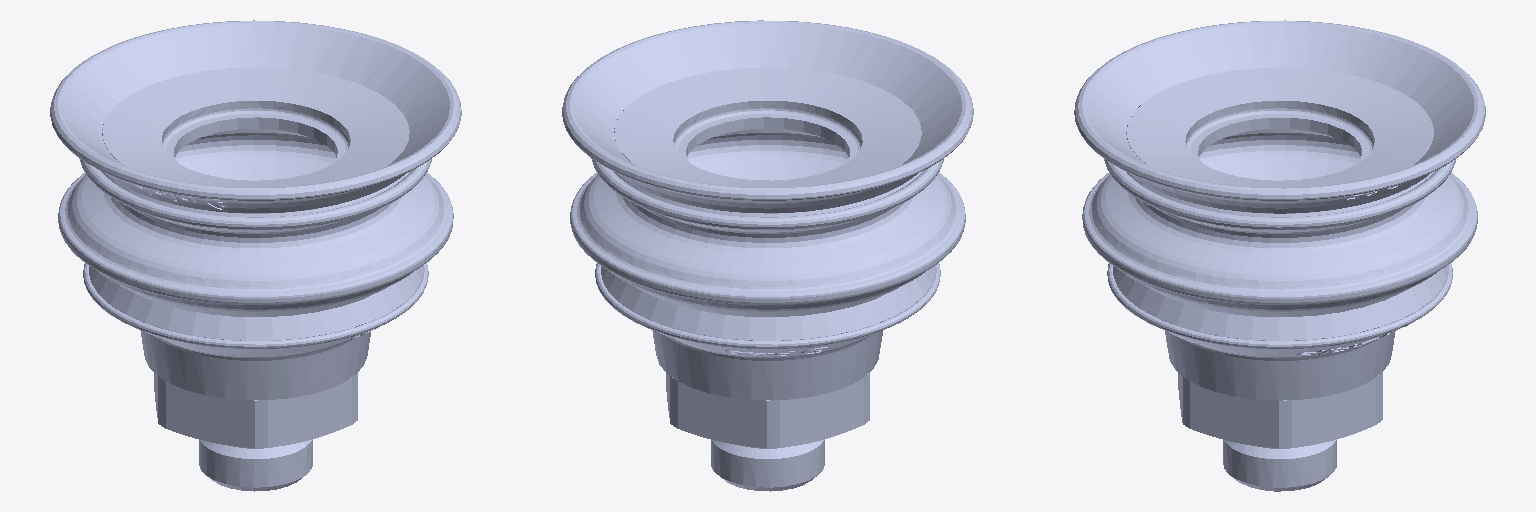
URDF robot description (robotiq_description):
<?xml version="1.0" encoding="utf-8"?>
<!-- This URDF was automatically created by SolidWorks to URDF Exporter! Originally created by Stephen Brawner (brawner@gmail.com) 
     Commit Version: 1.6.0-4-g7f85cfe  Build Version: 1.6.7995.38578
     For more information, please see http://wiki.ros.org/sw_urdf_exporter -->
<robot
  name="robotiq_description">
  <link
    name="robotiq_base_link">
    <inertial>
      <origin
        xyz="0.00028483 0.00013946 0.056894"
        rpy="0 0 0" />
      <mass
        value="0.42106" />
      <inertia
        ixx="0.00042489"
        ixy="-3.2635E-07"
        ixz="-2.1895E-07"
        iyy="0.00052455"
        iyz="2.1181E-07"
        izz="0.00028674" />
    </inertial>
    <visual>
      <origin
        xyz="0 0 0"
        rpy="0 0 0" />
      <geometry>
        <mesh
          filename="package://robotiq_description/meshes/robotiq_base_link.STL" />
      </geometry>
      <material
        name="">
        <color
          rgba="0.79216 0.81961 0.93333 1" />
      </material>
    </visual>
    <collision>
      <origin
        xyz="0 0 0"
        rpy="0 0 0" />
      <geometry>
        <mesh
          filename="package://robotiq_description/meshes/robotiq_base_link.STL" />
      </geometry>
    </collision>
  </link>
  <link
    name="center_tool">
    <inertial>
      <origin
        xyz="6.8225E-08 5.9771E-07 -0.014684"
        rpy="0 0 0" />
      <mass
        value="0.007783" />
      <inertia
        ixx="5.1318E-07"
        ixy="-6.6252E-11"
        ixz="1.9263E-13"
        iyy="5.1324E-07"
        iyz="2.4819E-12"
        izz="8.6838E-07" />
    </inertial>
    <visual>
      <origin
        xyz="0 0 0"
        rpy="0 0 0" />
      <geometry>
        <mesh
          filename="package://robotiq_description/meshes/center_tool.STL" />
      </geometry>
      <material
        name="">
        <color
          rgba="0.79216 0.81961 0.93333 1" />
      </material>
    </visual>
    <collision>
      <origin
        xyz="0 0 0"
        rpy="0 0 0" />
      <geometry>
        <mesh
          filename="package://robotiq_description/meshes/center_tool.STL" />
      </geometry>
    </collision>
  </link>
  <joint
    name="center_tool"
    type="fixed">
    <origin
      xyz="0 0 0.16722"
      rpy="0 0 0" />
    <parent
      link="robotiq_base_link" />
    <child
      link="center_tool" />
    <axis
      xyz="0 0 1" />
  </joint>
</robot>

--- Facts derived from the render (not from the file) ---
Views: 3 orthographic renders of the robot side by side, from view 1: azimuth 30°, elevation 25°; view 2: azimuth 150°, elevation 25°; view 3: azimuth 270°, elevation 25°.
Model robotiq_description with 2 links and 1 joints (1 fixed), rooted at robotiq_base_link, posed every joint at zero.
Links seen in each view (by area): view 1: center_tool; view 2: center_tool; view 3: center_tool.
Link boxes in pixels (left/top/right/bottom): center_tool: left=50, top=20, right=461, bottom=491; center_tool: left=562, top=20, right=973, bottom=491; center_tool: left=1074, top=20, right=1485, bottom=491.
Size in the robot's own frame: 0.035 by 0.035 by 0.0343 metres.
1 mesh visuals loaded from 2 distinct referenced files (1 binary STL); not drawn: 1 (reference not matched to a file when rendering).
